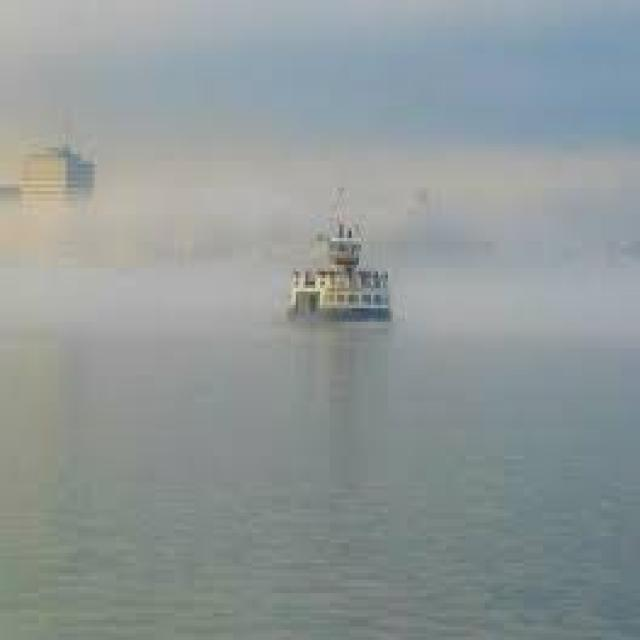passenger ship: (276, 232, 396, 355)
